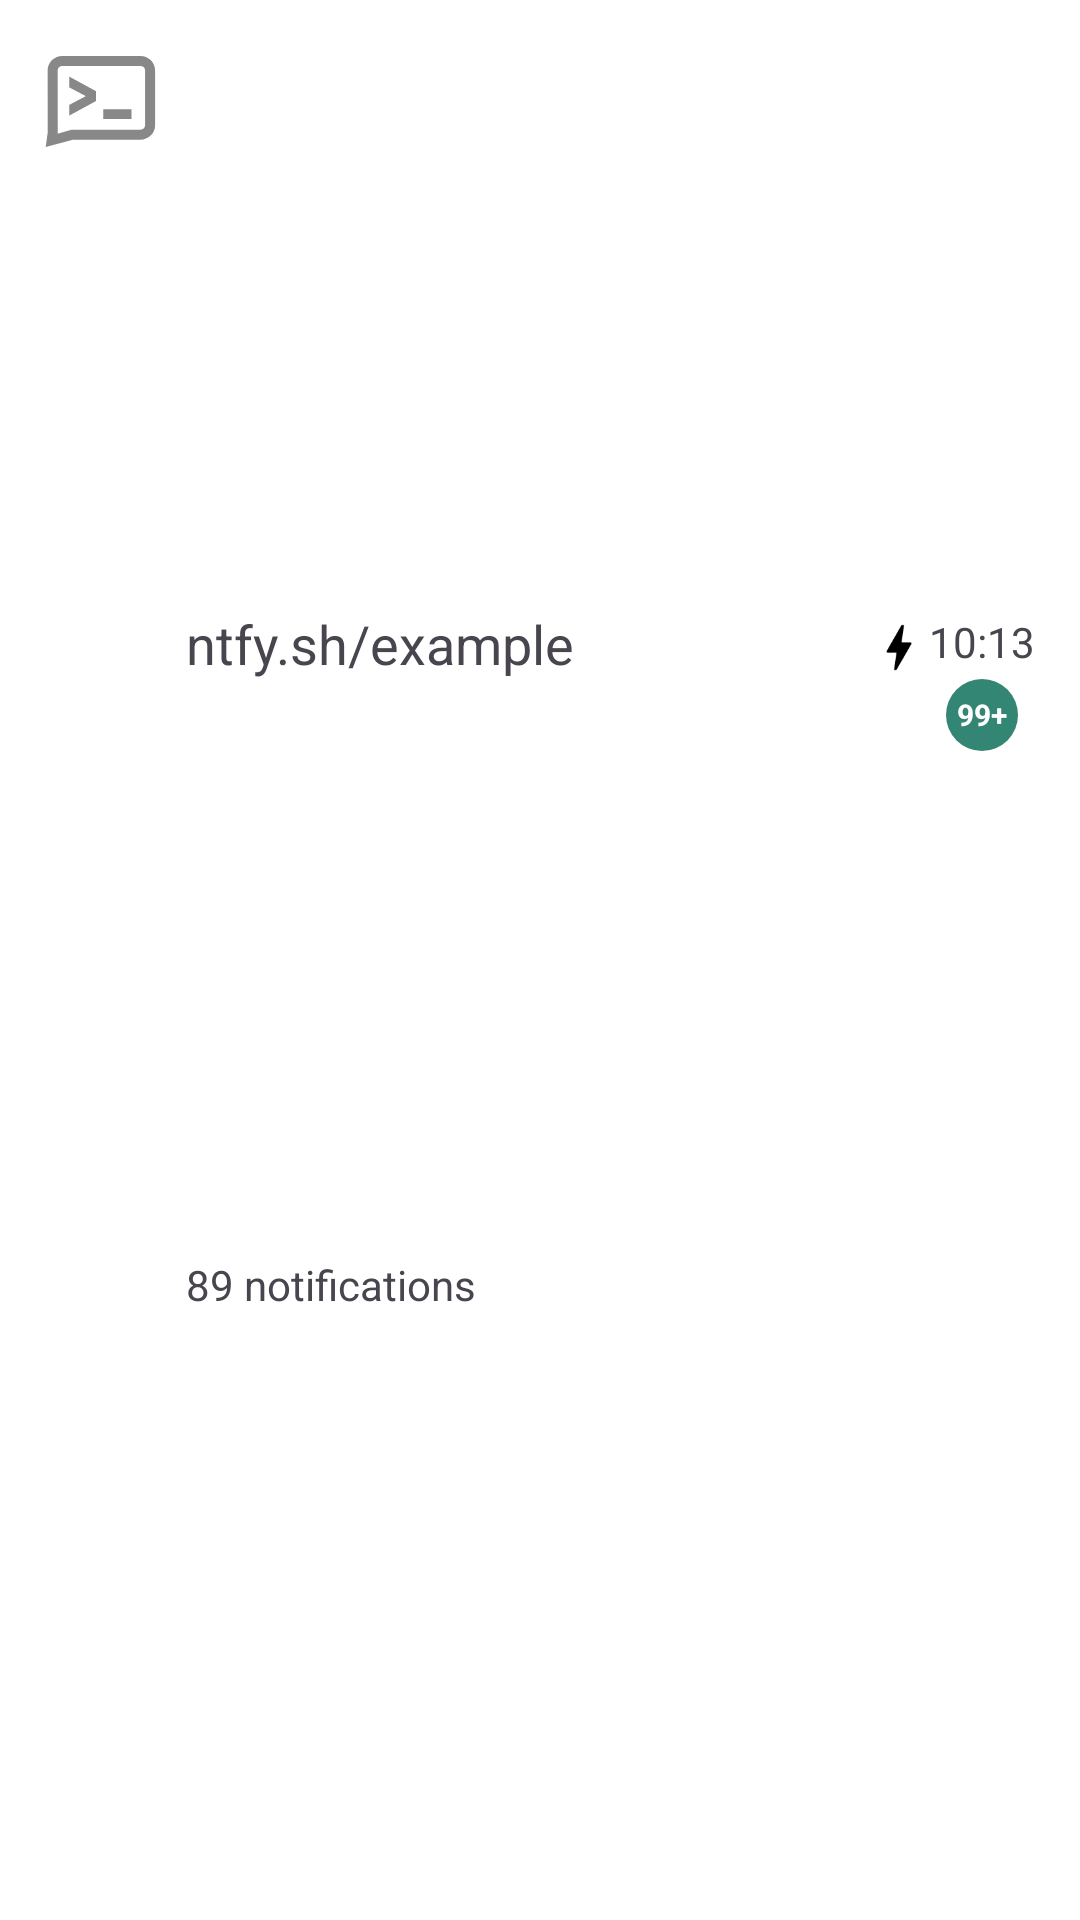

Where icons sit on this 1080 x 1920 app screen, as [x1=x1, y1=y1, x2=x2, y2=y2]:
bolt: [x1=886, y1=625, x2=912, y2=671]
